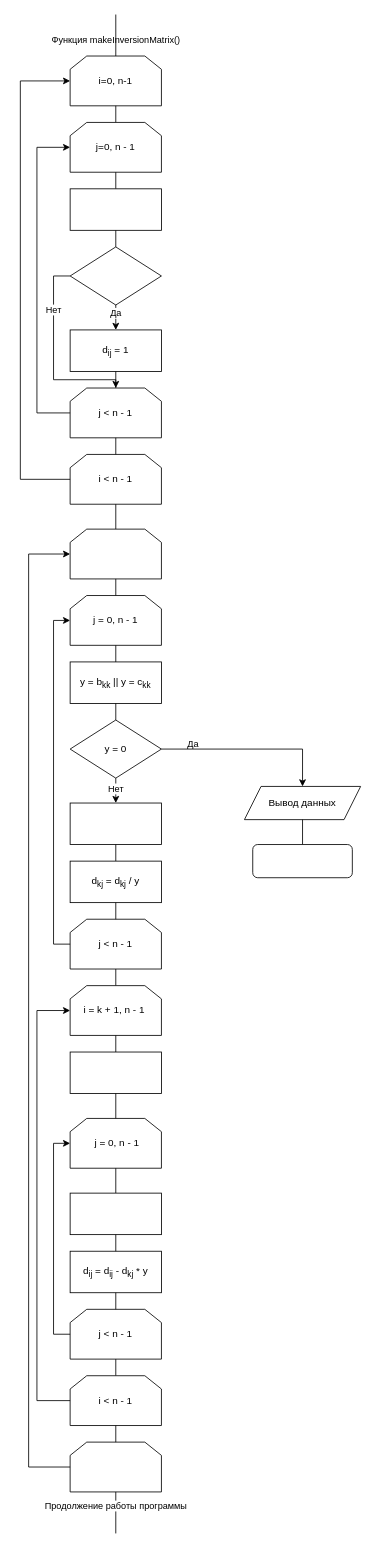
Image size: 375x1549. Some labels were removed from this diagram. Here are the shapes that lost their labels. From the top down, the centre of each, then its label:
At point (115, 209): "d ji = 0".
At point (115, 275): "i = j".
At point (115, 553): "k = 0, n - 1".
At point (115, 823): "b kj = b kj / y || c kj = c kj / y".
At point (302, 861): "Конец".
At point (115, 1072): "y = b ik || y = c ik".
At point (115, 1213): "b ij = b ij - b kj * y || c ij = c ij - c kj * y".
At point (115, 1466): "k < n - 1".
